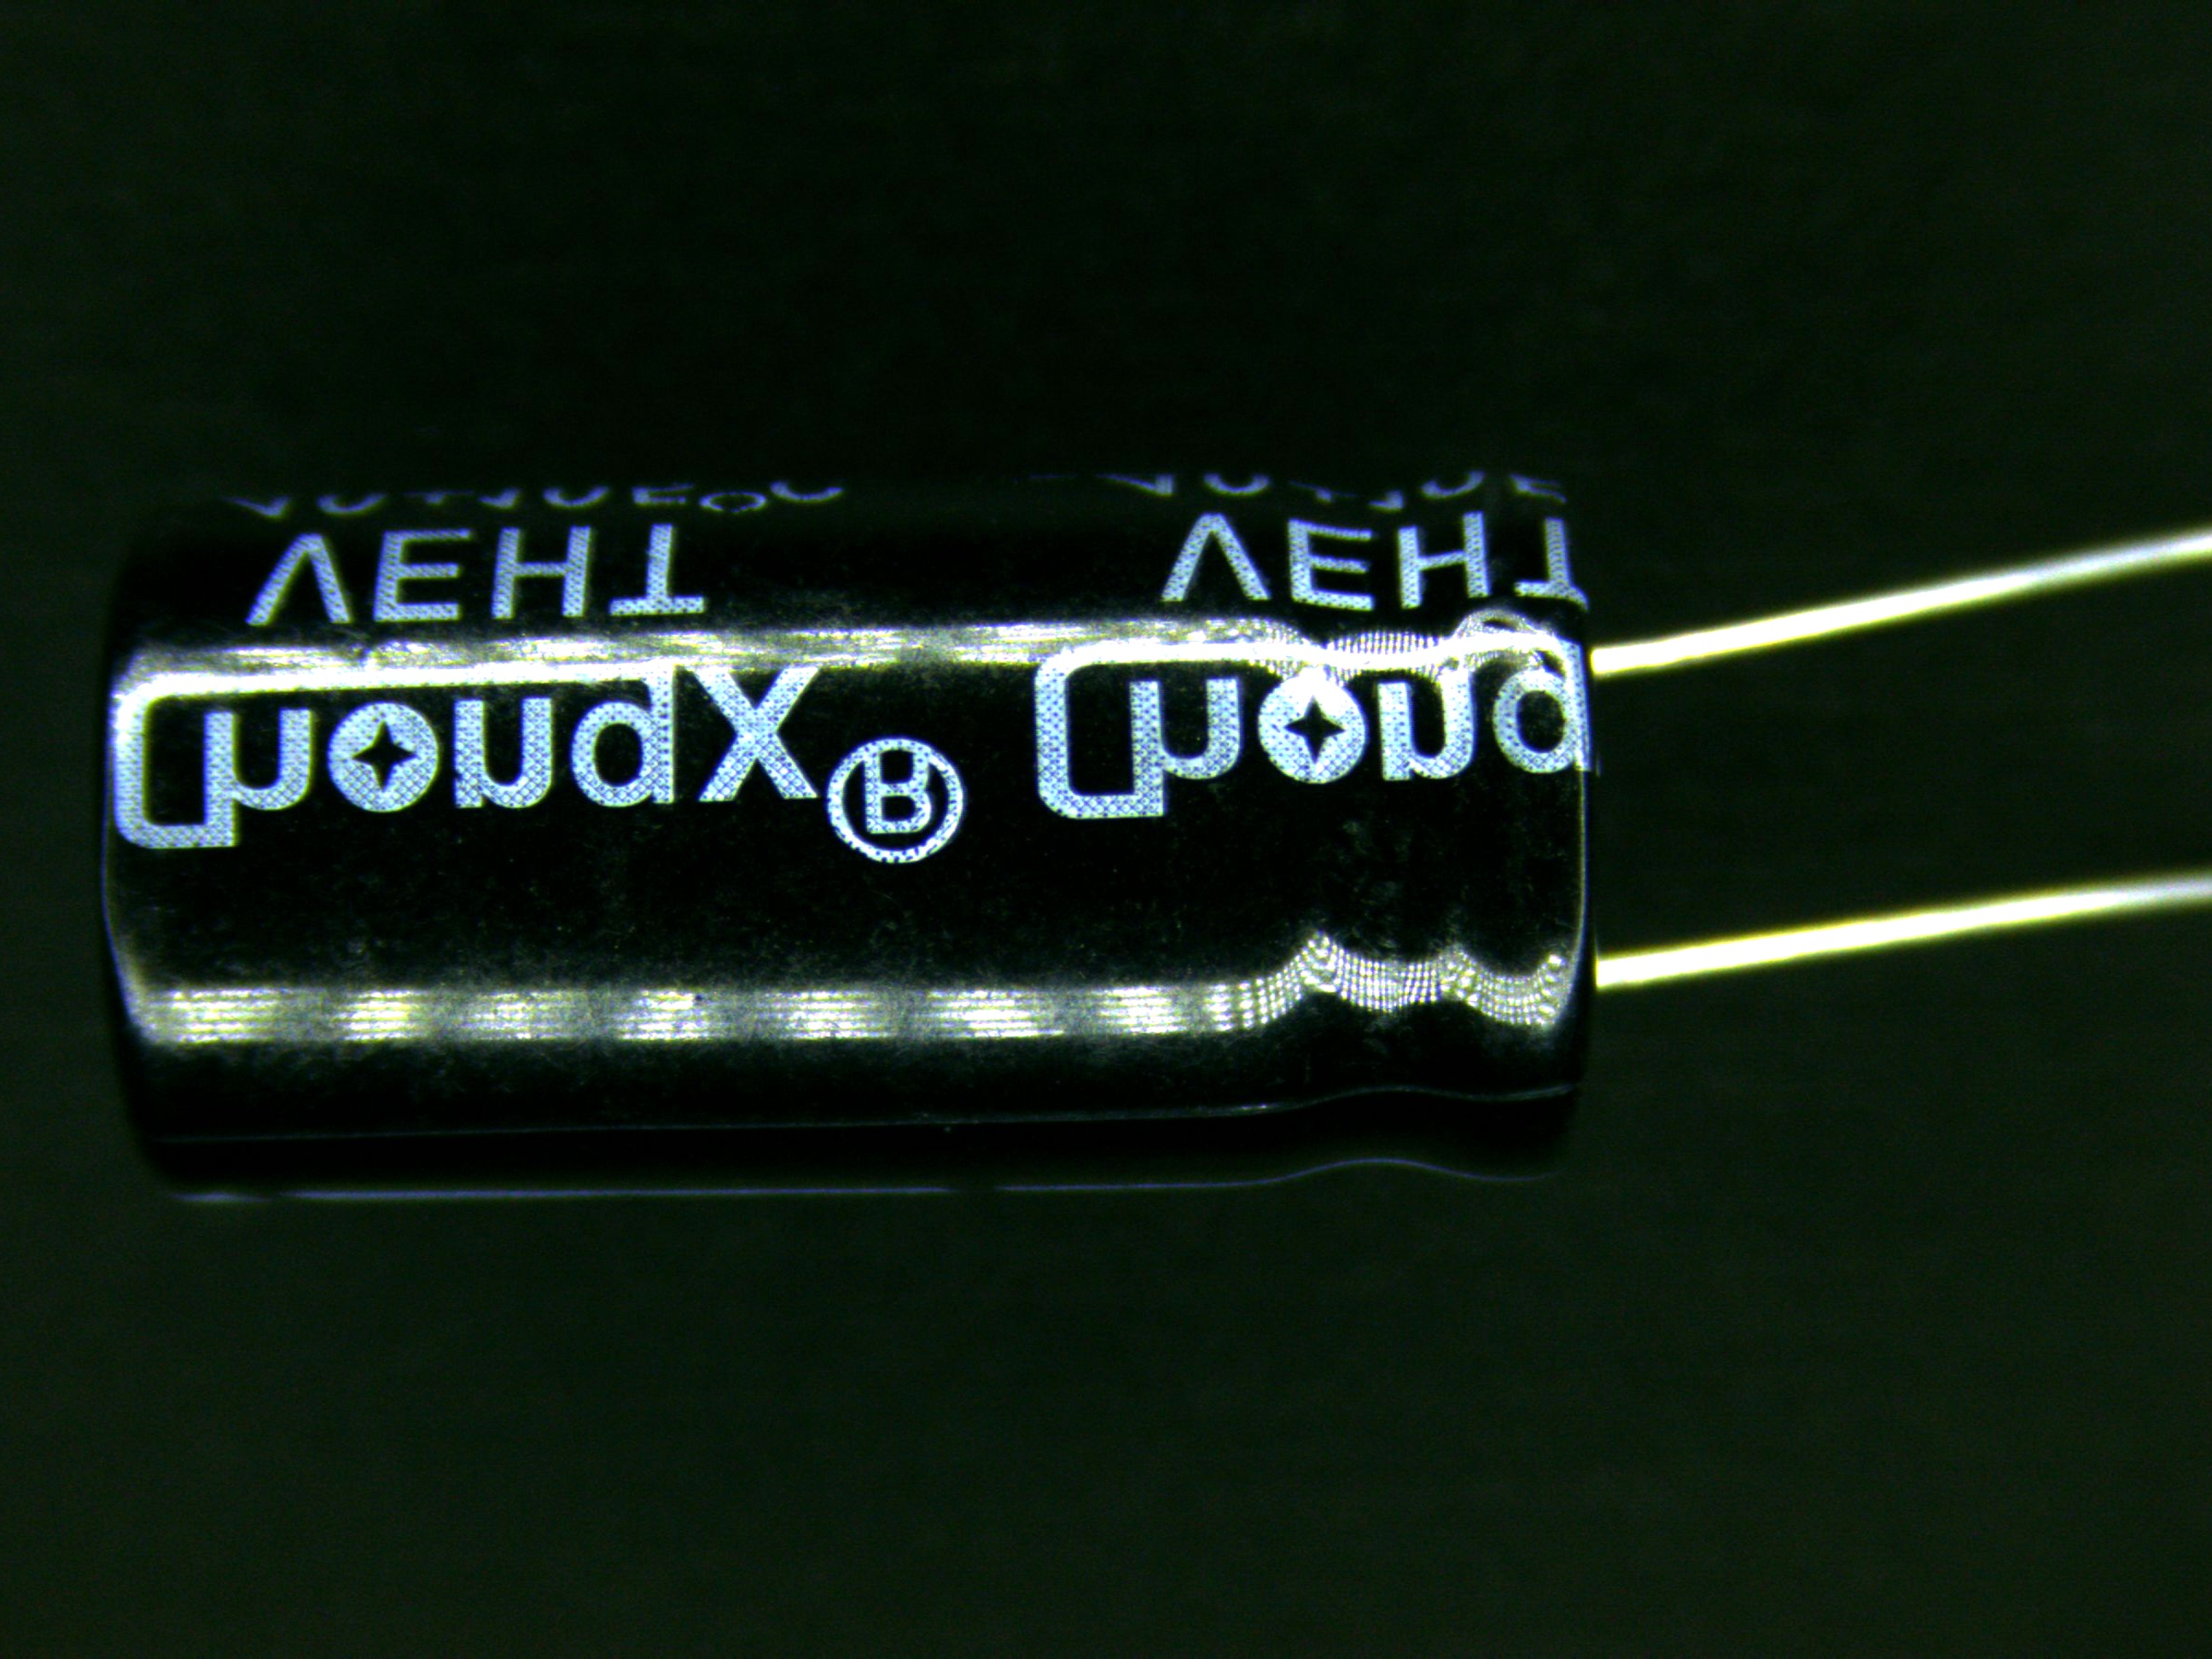c3: (85, 458, 1872, 1202)
